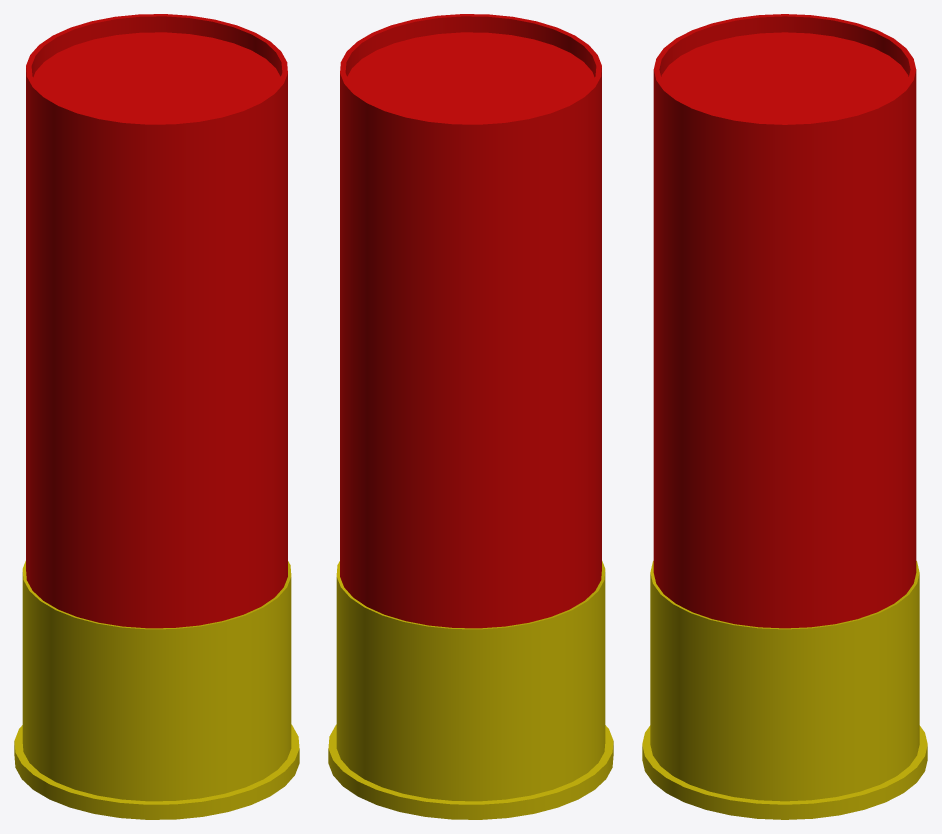
The model's file is 12cal.fbx.
3 renders of one model, left to right at view 1: azimuth 30°, elevation 25°; view 2: azimuth 150°, elevation 25°; view 3: azimuth 270°, elevation 25°, orthographic.
Parts seen in each view (by area): view 1: Cylinder; view 2: Cylinder; view 3: Cylinder.
Part boxes in pixels (left/top/right/bottom): Cylinder: left=14, top=14, right=299, bottom=819; Cylinder: left=328, top=14, right=613, bottom=819; Cylinder: left=642, top=14, right=927, bottom=819.
Size of the model in its own units: 2.01 by 5.36 by 2.01.
